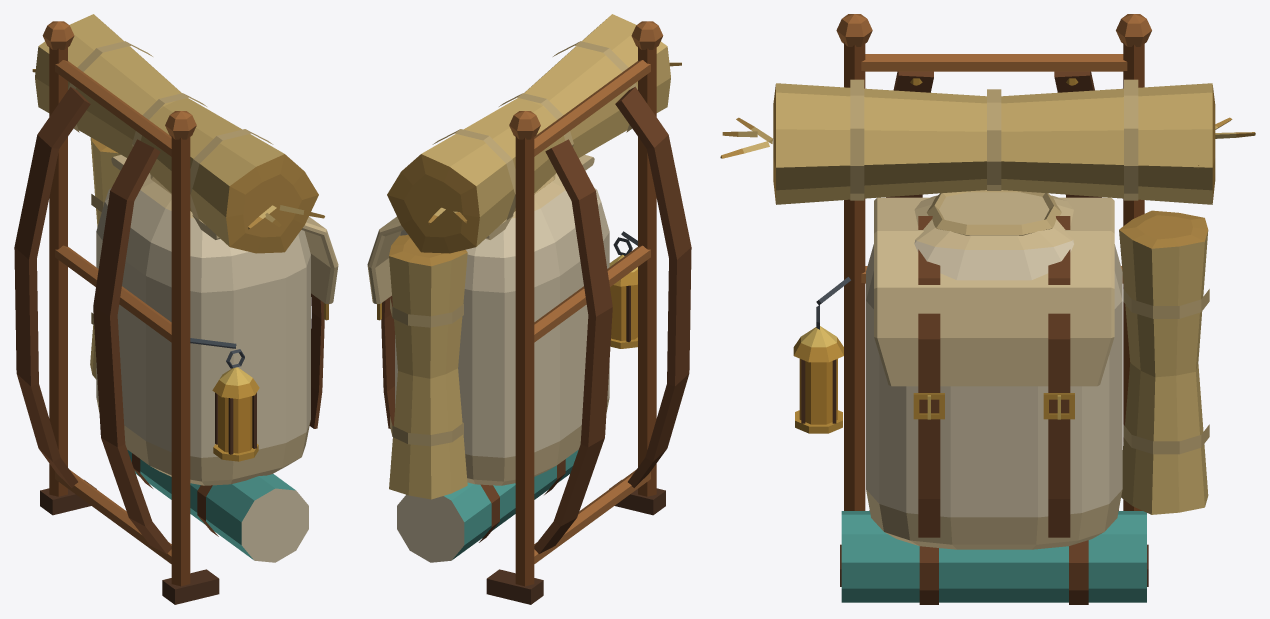
Rendered from backpack_big.glb.
The picture shows the model from 3 angles, left to right: view 1: azimuth 30°, elevation 25°; view 2: azimuth 150°, elevation 25°; view 3: azimuth 270°, elevation 25°; orthographic projection. The views are drawn at different scales.
Visible parts, largest first — view 1: backpack_big; view 2: backpack_big; view 3: backpack_big.
Part boxes in pixels (bbox=[...]): backpack_big: bbox=[14, 14, 338, 604]; backpack_big: bbox=[367, 14, 691, 604]; backpack_big: bbox=[720, 14, 1255, 604].
Bounding box in the file's own units: 0.4755 × 0.943 × 0.8237.
